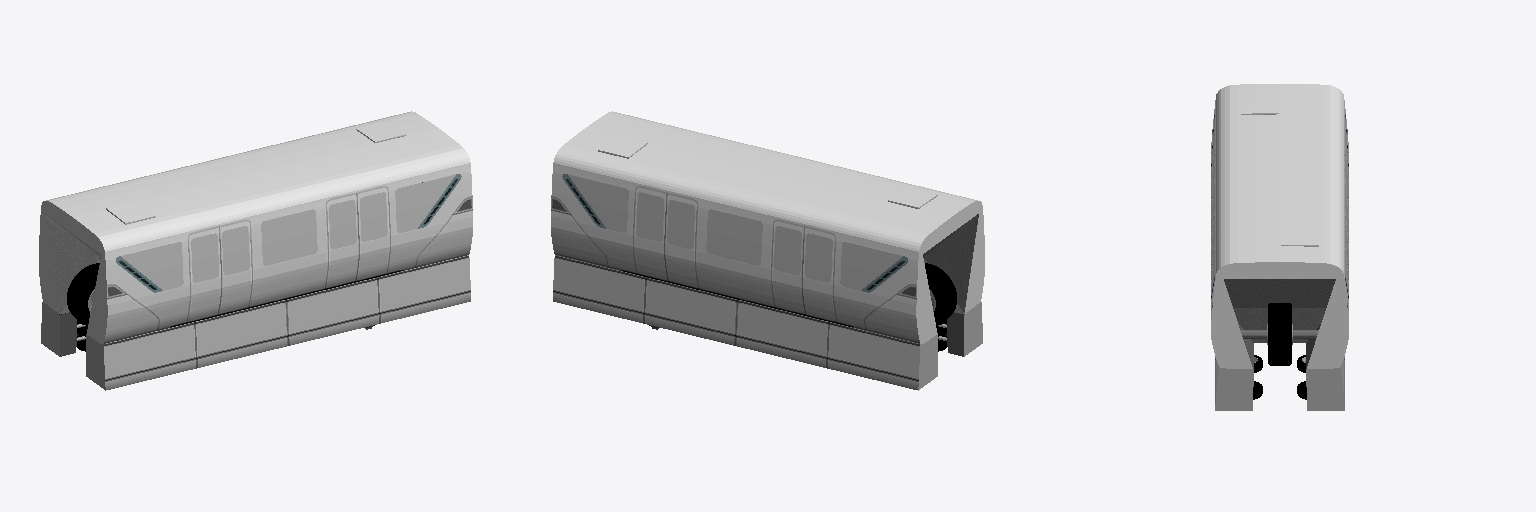
3 renders of one model, left to right at view 1: azimuth 30°, elevation 25°; view 2: azimuth 150°, elevation 25°; view 3: azimuth 270°, elevation 25°, orthographic.
Parts seen in each view (by area): view 1: SHELL_Cube, FRAME_Cube.002, SHELL_cabin_windows_Cube.012, SHELL_details_Cylinder.005, FRAME_WHEEL_1_Cylinder.004; view 2: SHELL_Cube, FRAME_Cube.002, SHELL_cabin_windows_Cube.012, SHELL_details_Cylinder.005, FRAME_WHEEL_1_Cylinder.004; view 3: SHELL_Cube, FRAME_Cube.002, SHELL_details_Cylinder.005, FRAME_WHEEL_2_Cylinder.002, SHELL_cabin_windows_Cube.012, FRAME_guide_wheels_Cylinder.003.
Boxes of the visible parts, <box> form: SHELL_Cube: <box>39,111,472,344</box>; FRAME_Cube.002: <box>41,255,470,390</box>; SHELL_cabin_windows_Cube.012: <box>116,174,461,292</box>; SHELL_details_Cylinder.005: <box>106,121,405,224</box>; FRAME_WHEEL_1_Cylinder.004: <box>67,263,99,325</box>; SHELL_Cube: <box>551,111,984,344</box>; FRAME_Cube.002: <box>553,255,982,390</box>; SHELL_cabin_windows_Cube.012: <box>562,174,907,292</box>; SHELL_details_Cylinder.005: <box>598,135,937,208</box>; FRAME_WHEEL_1_Cylinder.004: <box>925,263,956,325</box>; SHELL_Cube: <box>1211,84,1348,368</box>; FRAME_Cube.002: <box>1215,357,1344,410</box>; SHELL_details_Cylinder.005: <box>1240,98,1318,338</box>; FRAME_WHEEL_2_Cylinder.002: <box>1267,303,1292,365</box>; SHELL_cabin_windows_Cube.012: <box>1211,114,1348,298</box>; FRAME_guide_wheels_Cylinder.003: <box>1253,355,1306,399</box>.
Bounding box in the file's own units: 8.01 × 3.52 × 2.6.
4 materials, 2 textured.